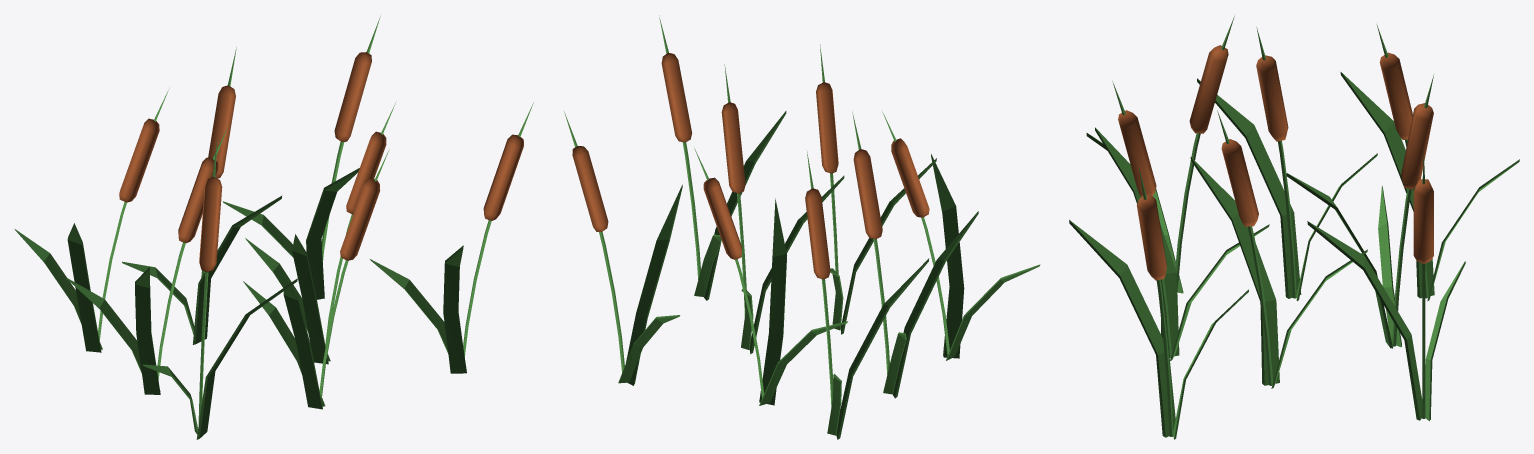
3 views of the same model, side by side, from view 1: azimuth 30°, elevation 25°; view 2: azimuth 150°, elevation 25°; view 3: azimuth 270°, elevation 25° (orthographic). The views are drawn at different scales.
Visible parts, largest first — view 1: Line009; view 2: Line009; view 3: Line009.
Boxes of the visible parts, x1,y1,x2,y2 form: Line009: (14,16,533,439); Line009: (564,15,1040,439); Line009: (1069,16,1519,439).
Bounding box in the file's own units: 203 × 132 × 177.
